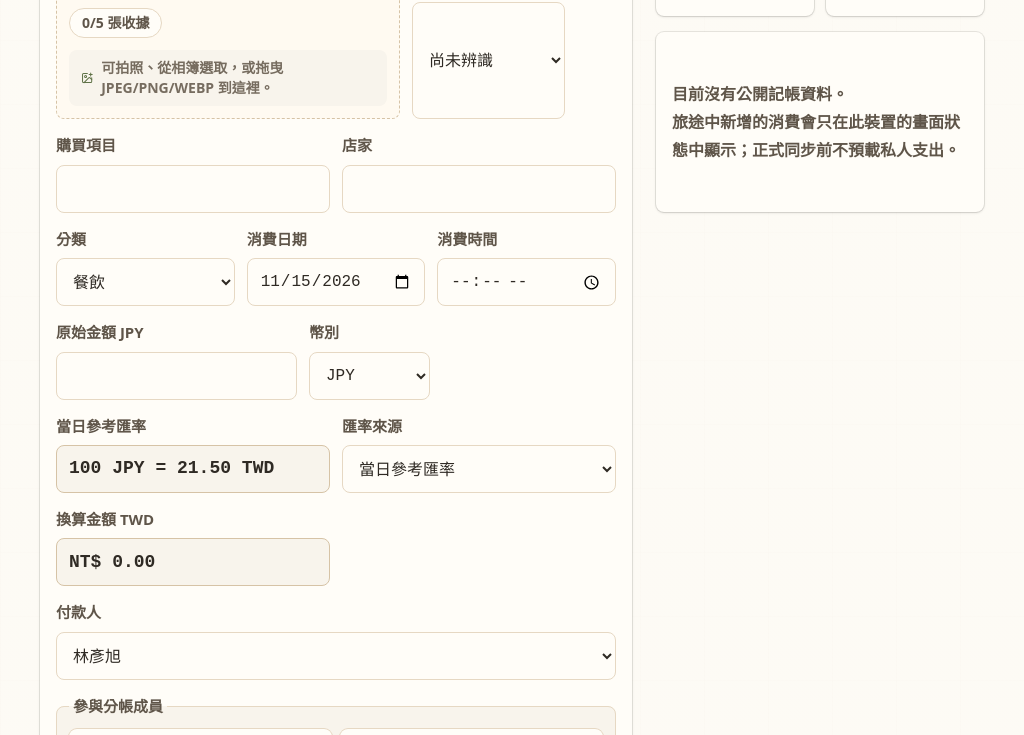
Test: expense management › uses the reference rate by default and recalculates with a custom expense rate
(page scrolled)
In the number field labelled "原始金額 JPY": (176,376) [56,352,297,400], type "1000"
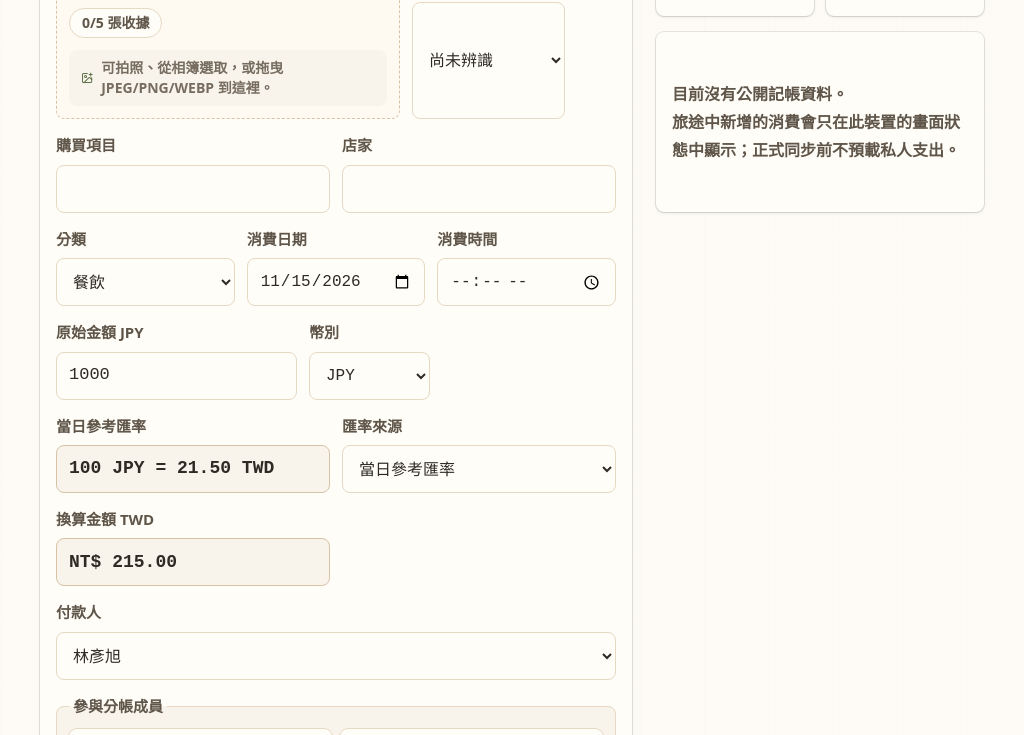
Now the text "NT$ 215.00" is shown, box [56,538,330,586]
Select "本筆自訂匯率" in the dropdown labelled "匯率來源": (479,469) [342,445,616,493]
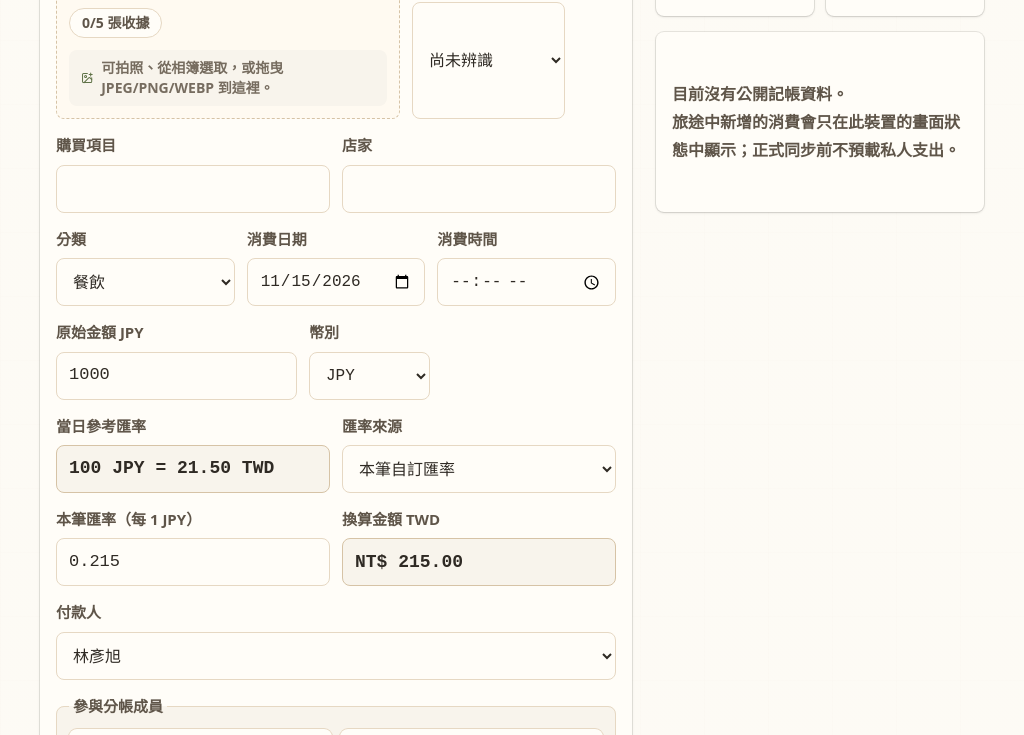
Now the number field labelled "本筆匯率（每 1 JPY）" holds "0.215"
Replace the text in the number field labelled "本筆匯率（每 1 JPY）" with "0.22": (193,562) [56,538,330,586]
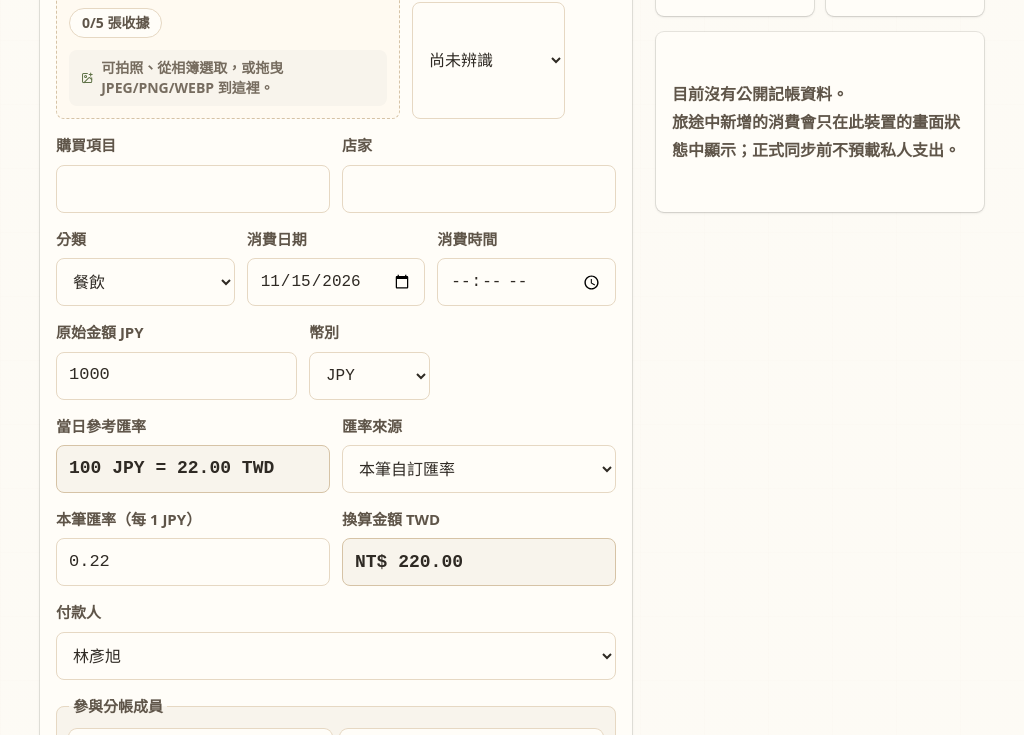
Now the text "NT$ 220.00" is shown, box [342,538,616,586]
In the field labelled "購買項目": (193,189) [56,165,330,213], type "自訂匯率咖啡"
(page scrolled)
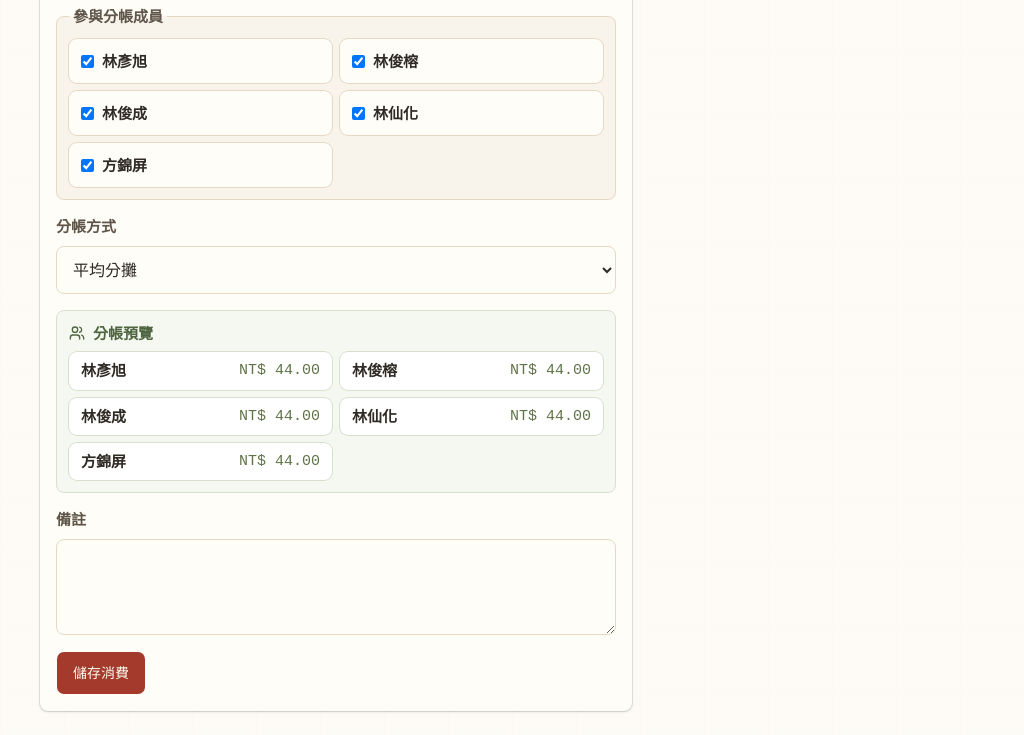
Click the button "儲存消費": (101,673) [56,651,146,695]
(page scrolled)
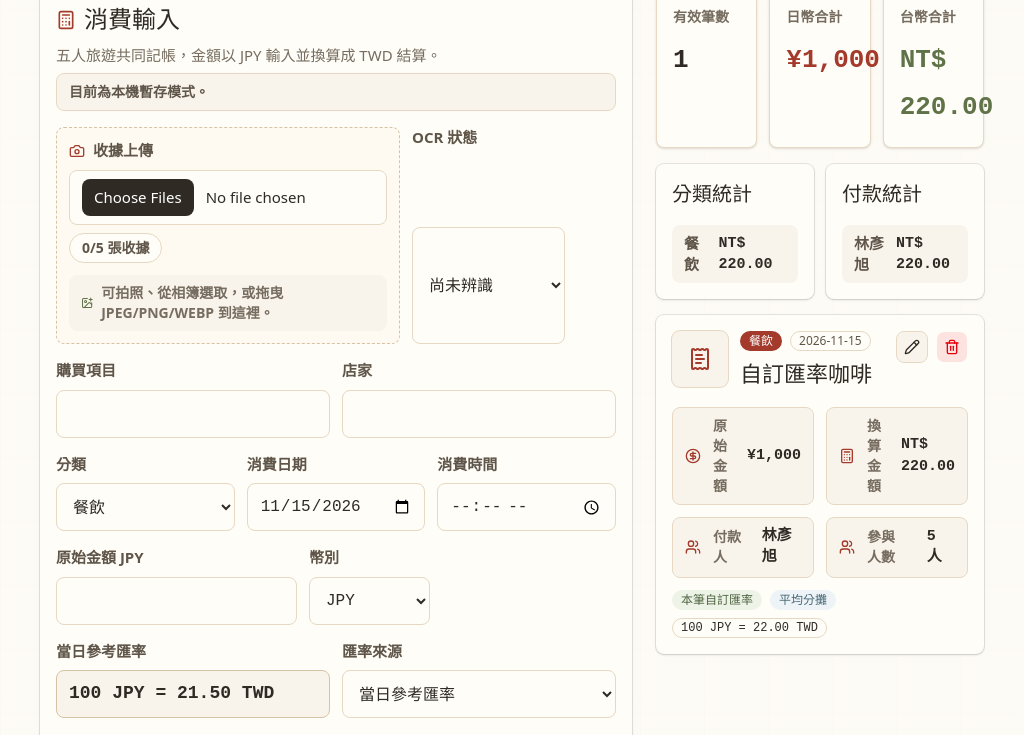
Now the text "自訂匯率咖啡" is shown, box [740,359,872,391]
